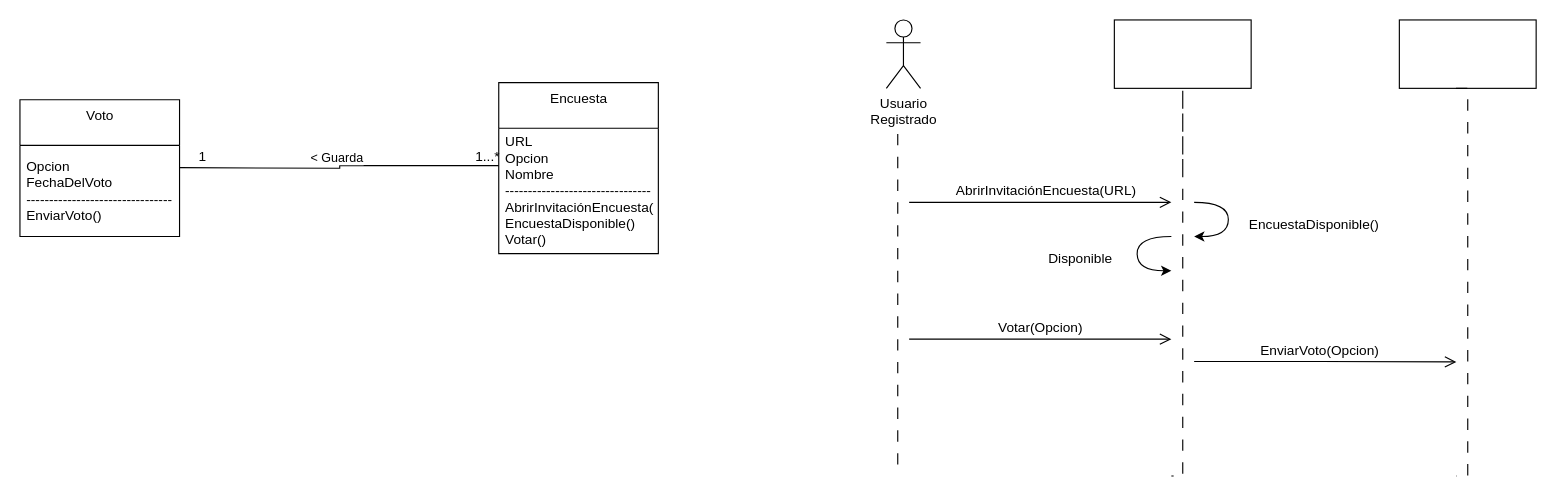
This 1556x497 diagram has some shape labels left out. Here are the shapes that lost their labels. From the top down, the centre of each, then its label:
point 1182,53: :Encuesta
point 1467,53: :Voto
